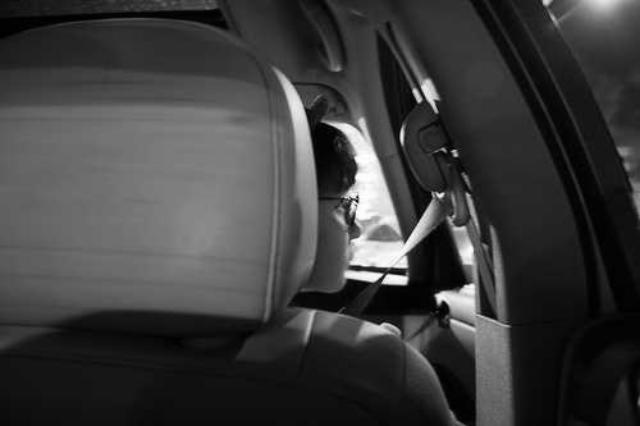Seatbelt: (336, 102, 466, 322)
